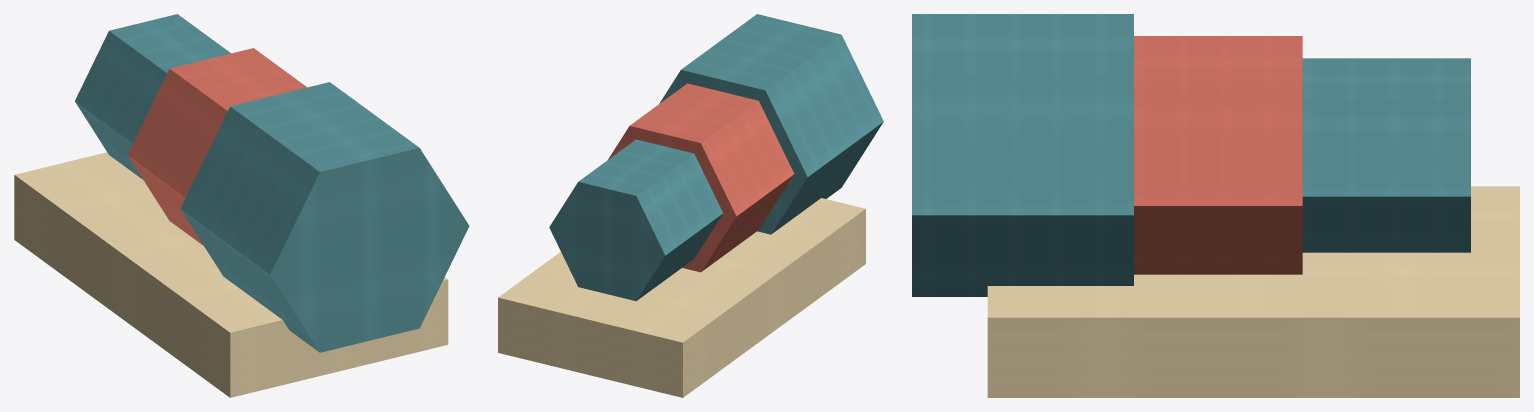
Rendered from atlas100-s075-a05.lod2.glb.
3 renders of one model, left to right at view 1: azimuth 30°, elevation 25°; view 2: azimuth 150°, elevation 25°; view 3: azimuth 270°, elevation 25°, orthographic. The views are drawn at different scales.
Parts seen in each view (by area): view 1: atlas100-s075-a05:part-002, atlas100-s075-a05:part-004, atlas100-s075-a05:part-001, atlas100-s075-a05:part-000; view 2: atlas100-s075-a05:part-004, atlas100-s075-a05:part-002, atlas100-s075-a05:part-000, atlas100-s075-a05:part-001; view 3: atlas100-s075-a05:part-004, atlas100-s075-a05:part-002, atlas100-s075-a05:part-001, atlas100-s075-a05:part-000.
Part boxes in pixels (<box>): atlas100-s075-a05:part-002: <box>180,82,469,352</box>; atlas100-s075-a05:part-004: <box>14,152,448,397</box>; atlas100-s075-a05:part-001: <box>127,48,306,245</box>; atlas100-s075-a05:part-000: <box>75,14,230,179</box>; atlas100-s075-a05:part-004: <box>498,198,865,397</box>; atlas100-s075-a05:part-002: <box>659,14,883,234</box>; atlas100-s075-a05:part-000: <box>549,139,723,301</box>; atlas100-s075-a05:part-001: <box>608,83,794,272</box>; atlas100-s075-a05:part-004: <box>987,186,1519,397</box>; atlas100-s075-a05:part-002: <box>912,14,1133,296</box>; atlas100-s075-a05:part-001: <box>1134,36,1302,274</box>; atlas100-s075-a05:part-000: <box>1302,58,1470,252</box>.
Bounding box in the file's own units: 0.3822 × 0.3916 × 0.748.
Materials: 3 (3 with a texture image).
